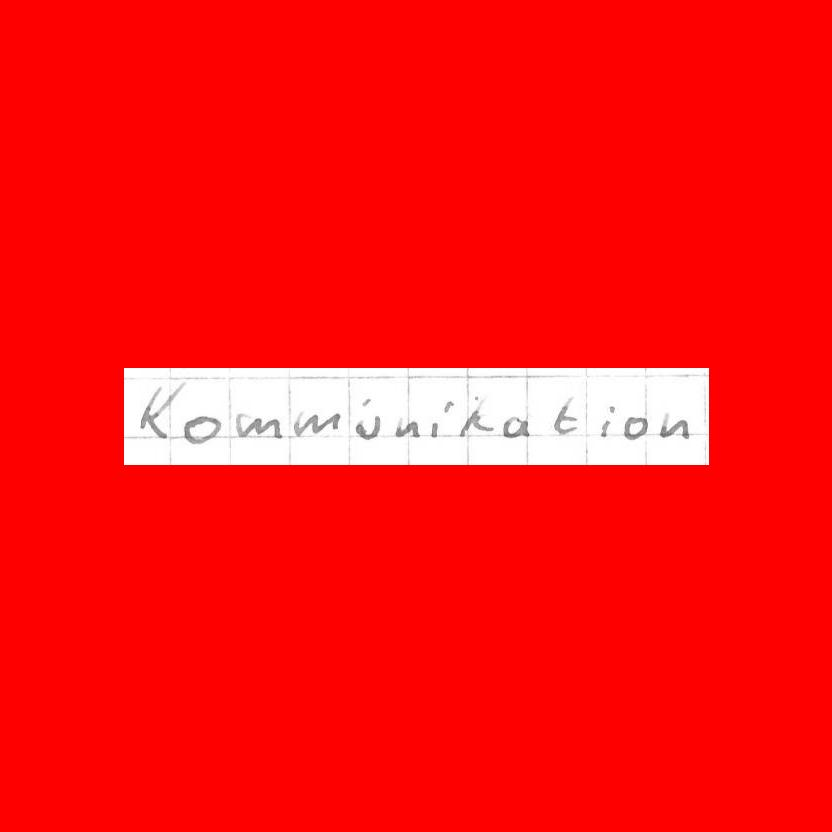Char: (138, 380, 186, 442), (458, 397, 499, 438), (234, 410, 283, 439), (293, 409, 340, 437), (183, 413, 221, 445), (551, 395, 580, 436), (429, 399, 455, 439), (658, 410, 688, 439), (622, 413, 649, 442), (353, 414, 382, 440), (393, 415, 421, 440), (597, 404, 617, 439), (502, 414, 531, 438)
